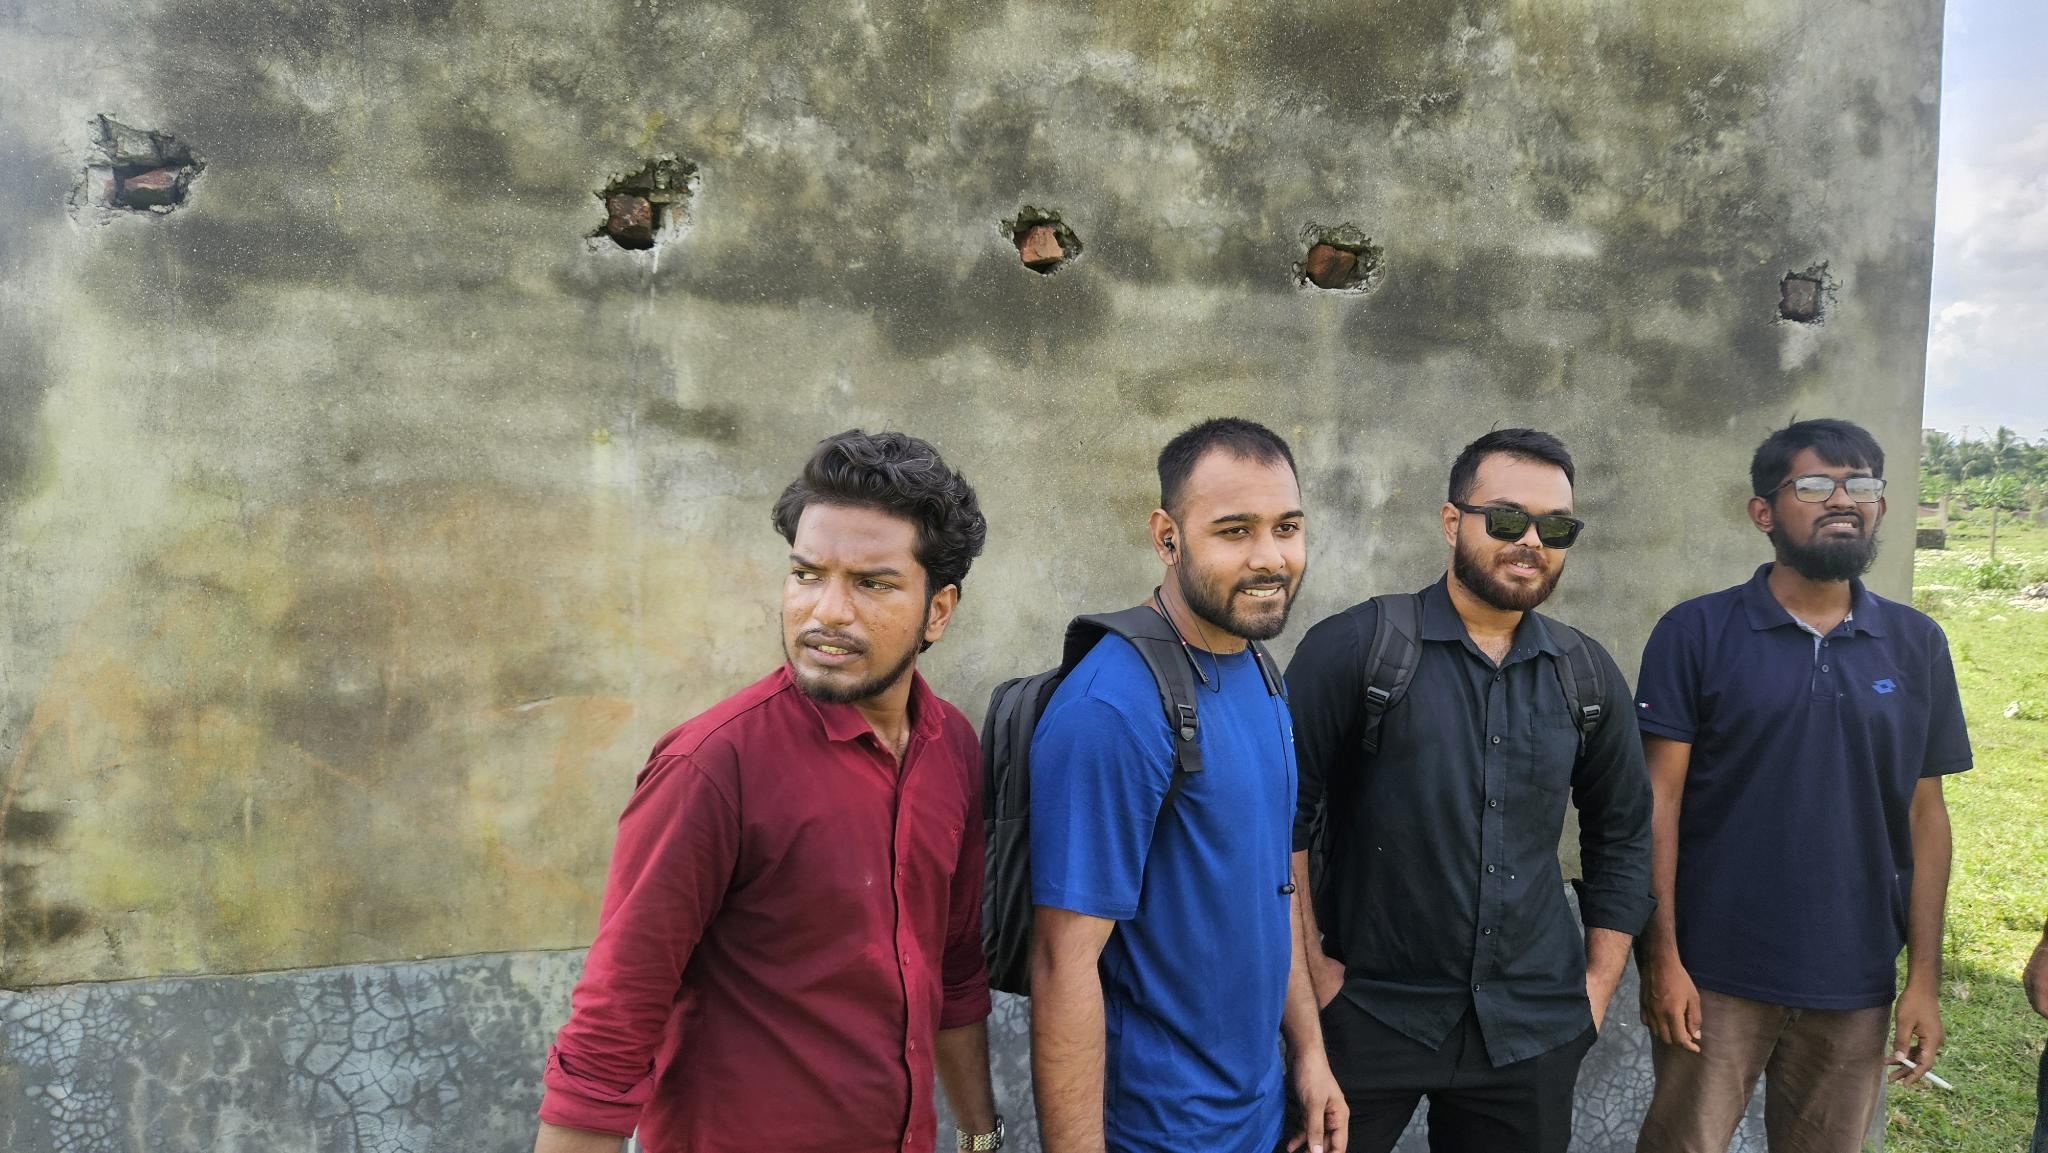cigarette: (1896, 1055, 1957, 1095)
nonSmoker: (533, 427, 1006, 1153), (982, 418, 1350, 1153), (1288, 426, 1658, 1153)
smoker: (1636, 418, 1976, 1153)
